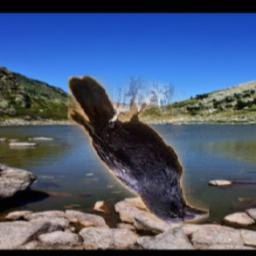Crow: (69, 76, 210, 224)
